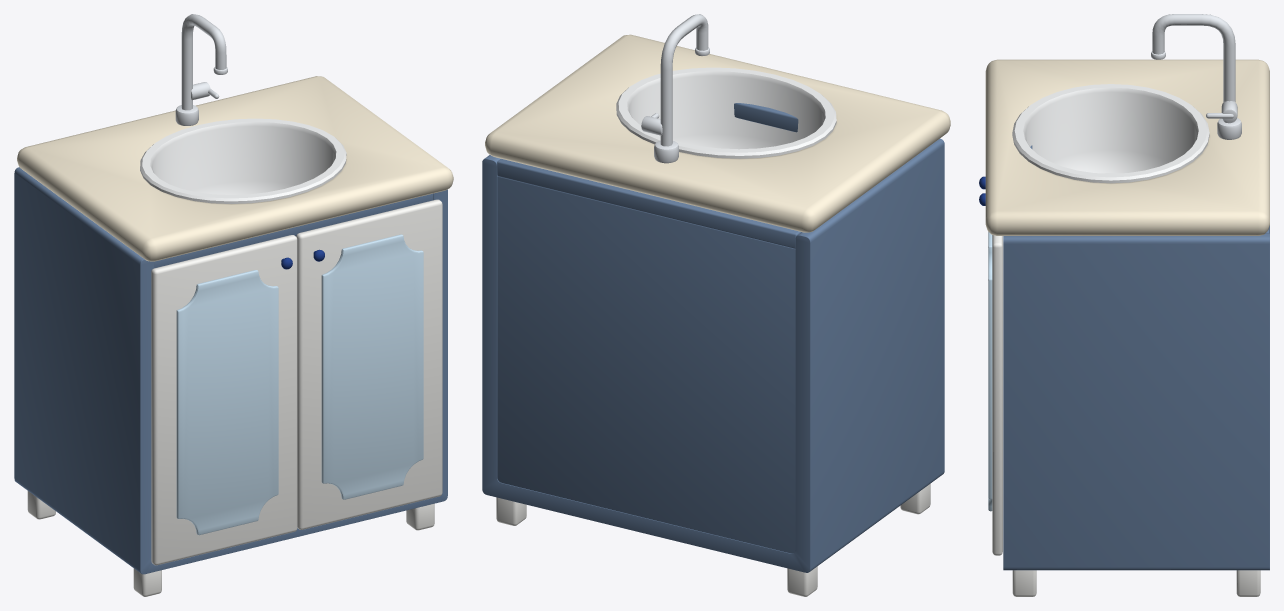
File: armario_cozinha_pia_classica_azul.glb
The picture shows the model from 3 angles, left to right: view 1: azimuth 30°, elevation 25°; view 2: azimuth 150°, elevation 25°; view 3: azimuth 270°, elevation 25°; orthographic projection. The views are drawn at different scales.
Parts seen in each view (by area): view 1: armario_cozinha_pia_classica_azul, porta_1, porta_2; view 2: armario_cozinha_pia_classica_azul; view 3: armario_cozinha_pia_classica_azul, porta_2.
Part boxes in pixels (x1=…): armario_cozinha_pia_classica_azul: x1=14, y1=14, x2=453, y2=596; porta_1: x1=151, y1=235, x2=297, y2=565; porta_2: x1=296, y1=199, x2=442, y2=529; armario_cozinha_pia_classica_azul: x1=482, y1=14, x2=950, y2=596; armario_cozinha_pia_classica_azul: x1=985, y1=14, x2=1269, y2=596; porta_2: x1=979, y1=193, x2=1002, y2=555.
Size of the model in its own units: 0.798 by 1.18 by 0.6131.
1 material, 1 textured.
